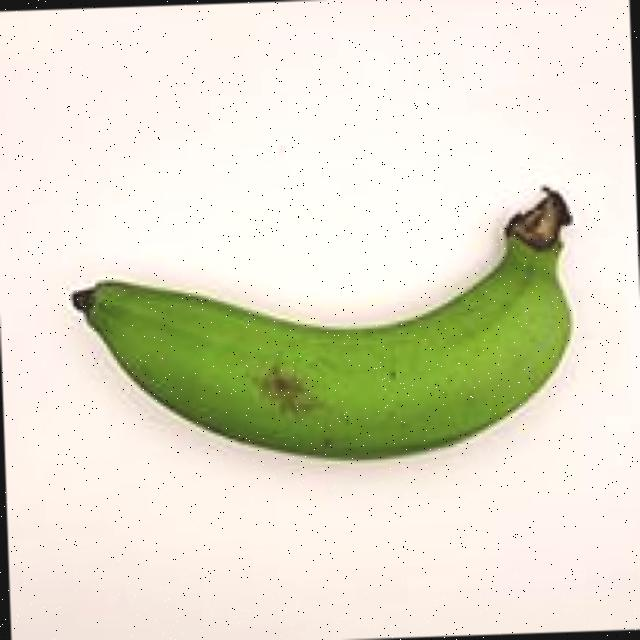Raw: (40, 163, 610, 512)
